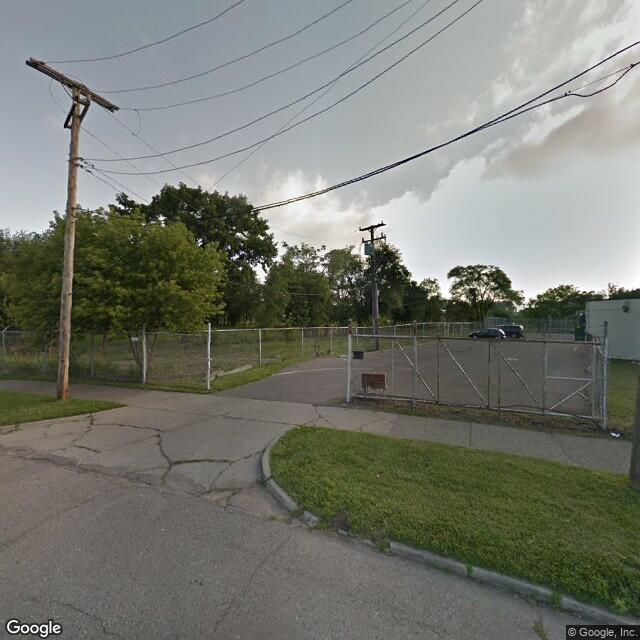litter: (609, 432, 623, 437)
